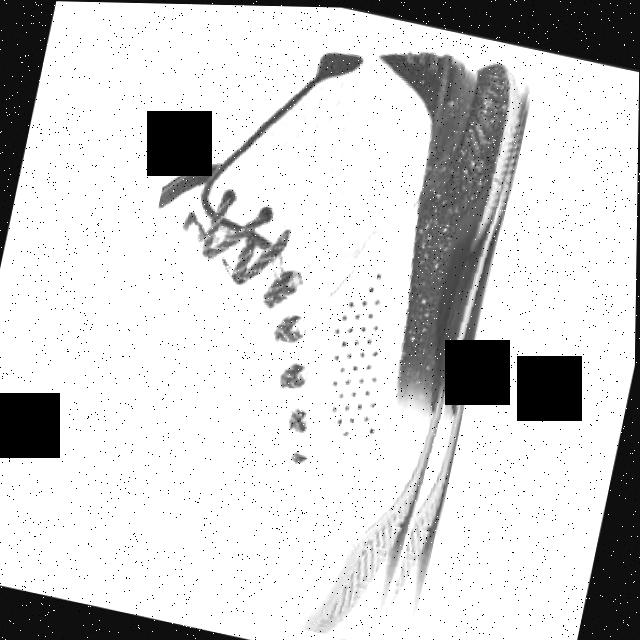shoe: (81, 2, 538, 640)
